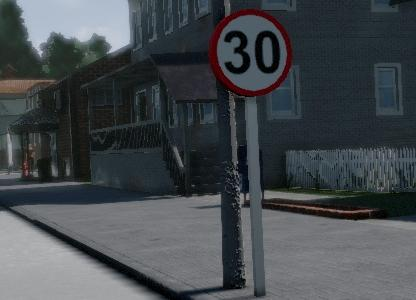Speed_30: (324, 0, 416, 82)
